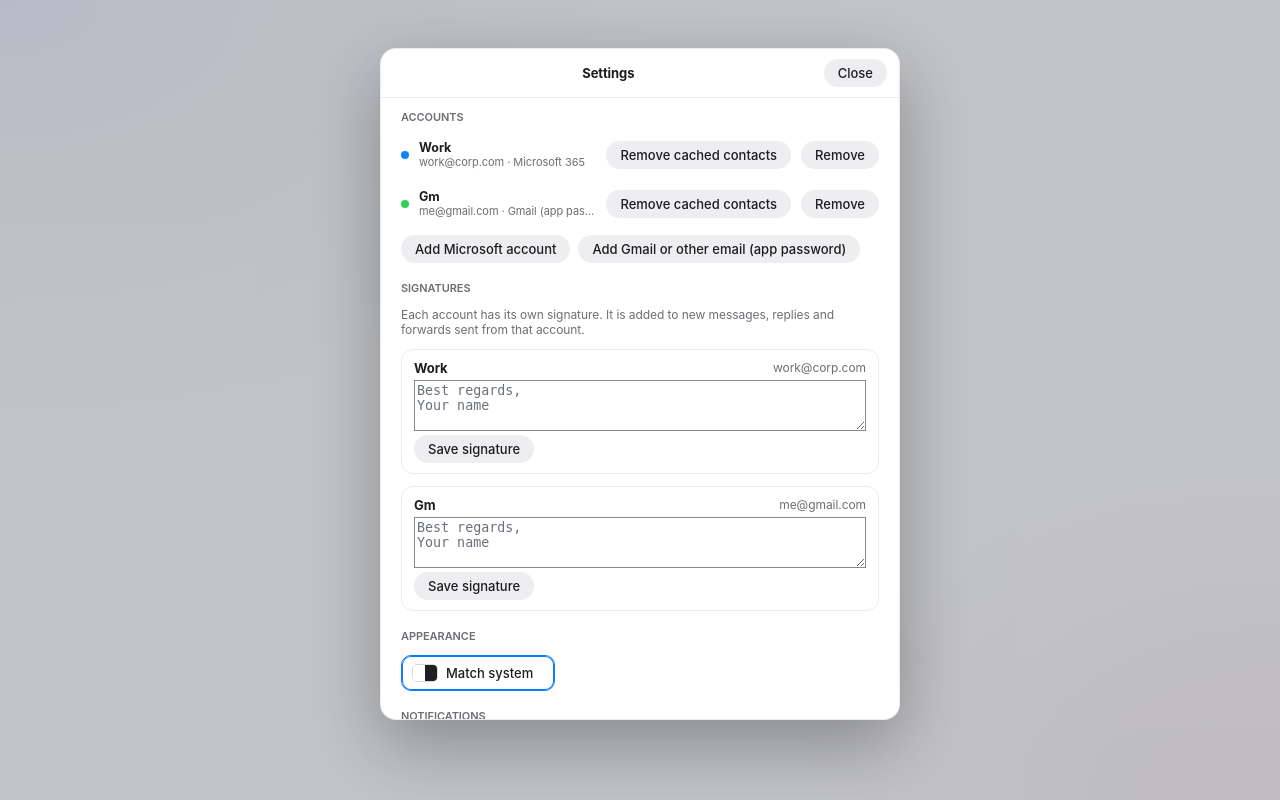
it: Settings → Accounts › removes one account's cached contacts (Microsoft 365: downloaded; Gmail app password: local)
Click the button "Remove cached contacts" next to "Microsoft 365" at (699, 155), box [606,141,791,169]
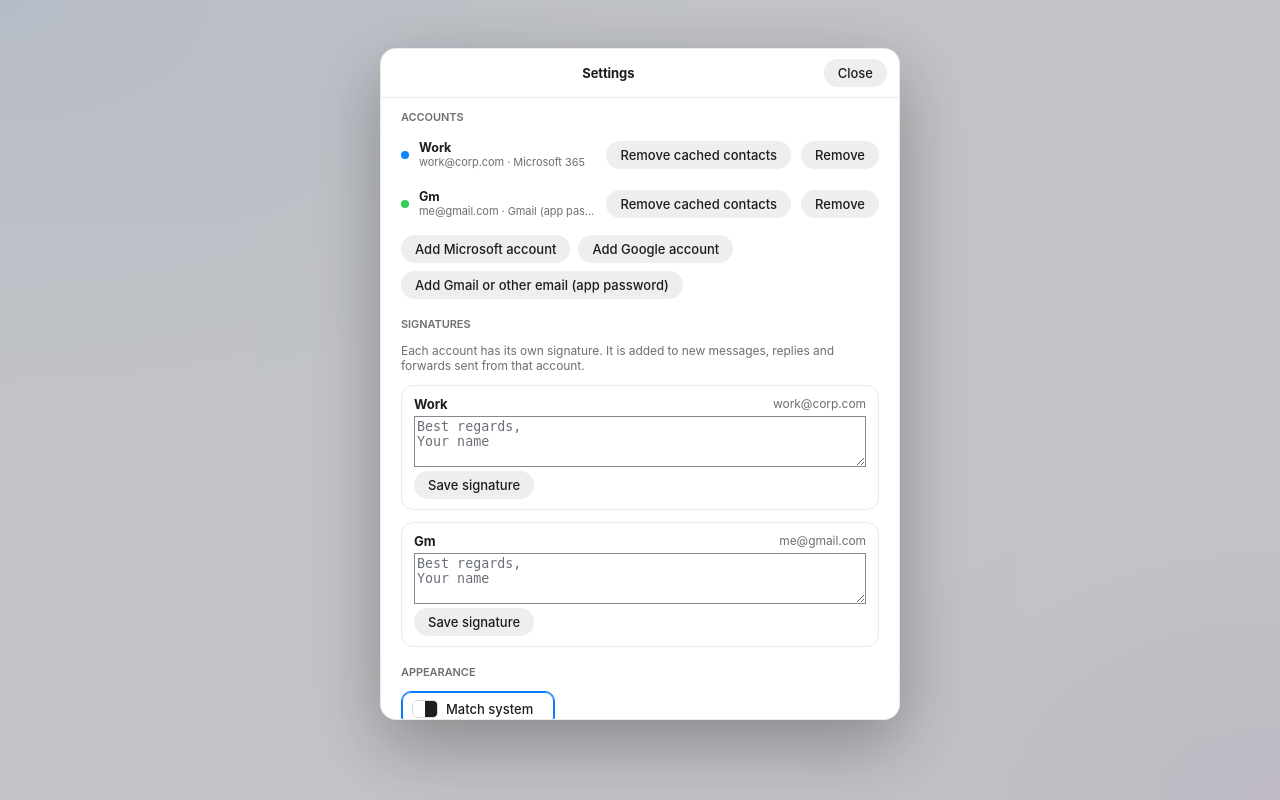
Click the button "Remove cached contacts" next to "Gmail (app password)" at (699, 204), box [606,190,791,218]
(page scrolled)
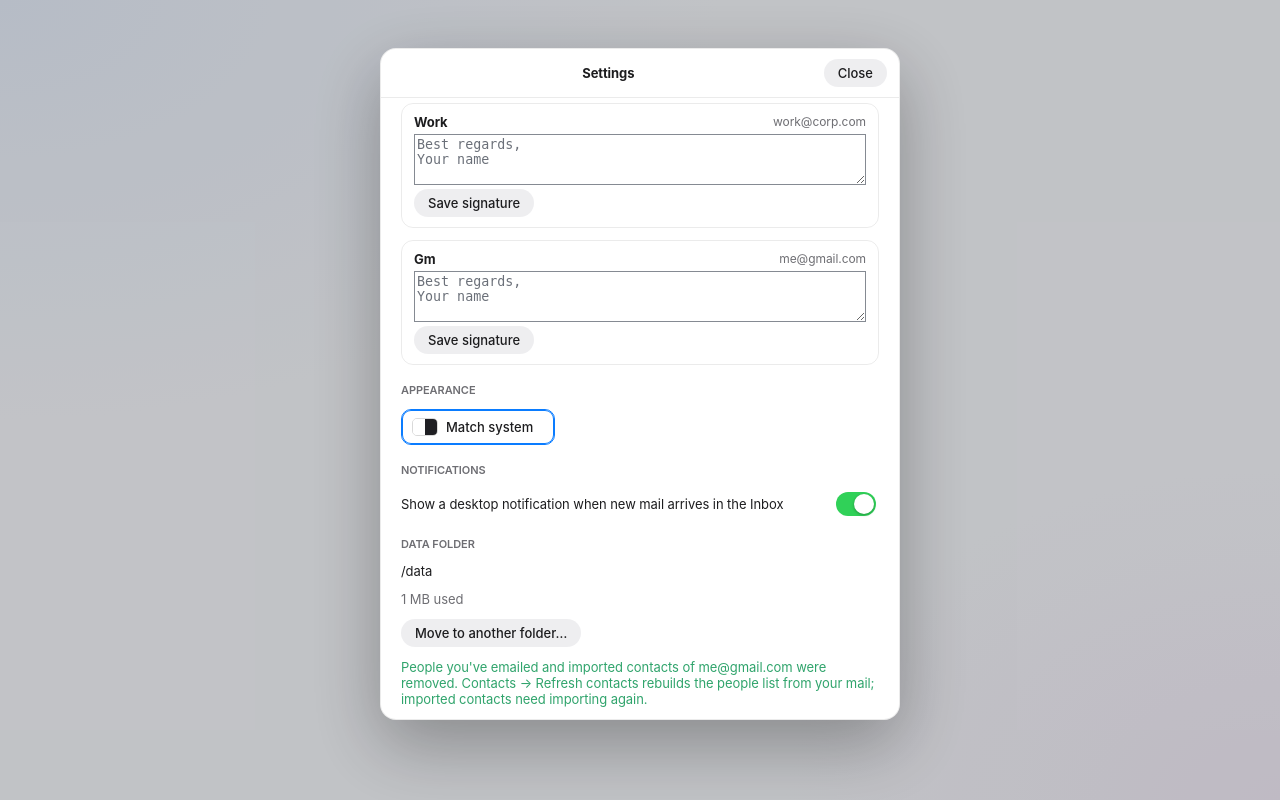
Expected: the text "People you've emailed and imported contacts of me@gmail.com were removed" is shown, [401,659,874,707]
